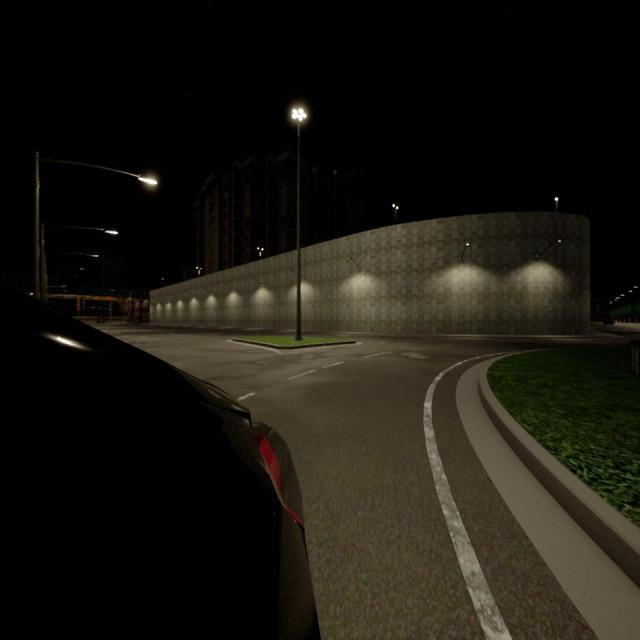Vehicle: (0, 297, 314, 638)
traffic_light: (109, 300, 112, 304), (119, 300, 122, 304)
